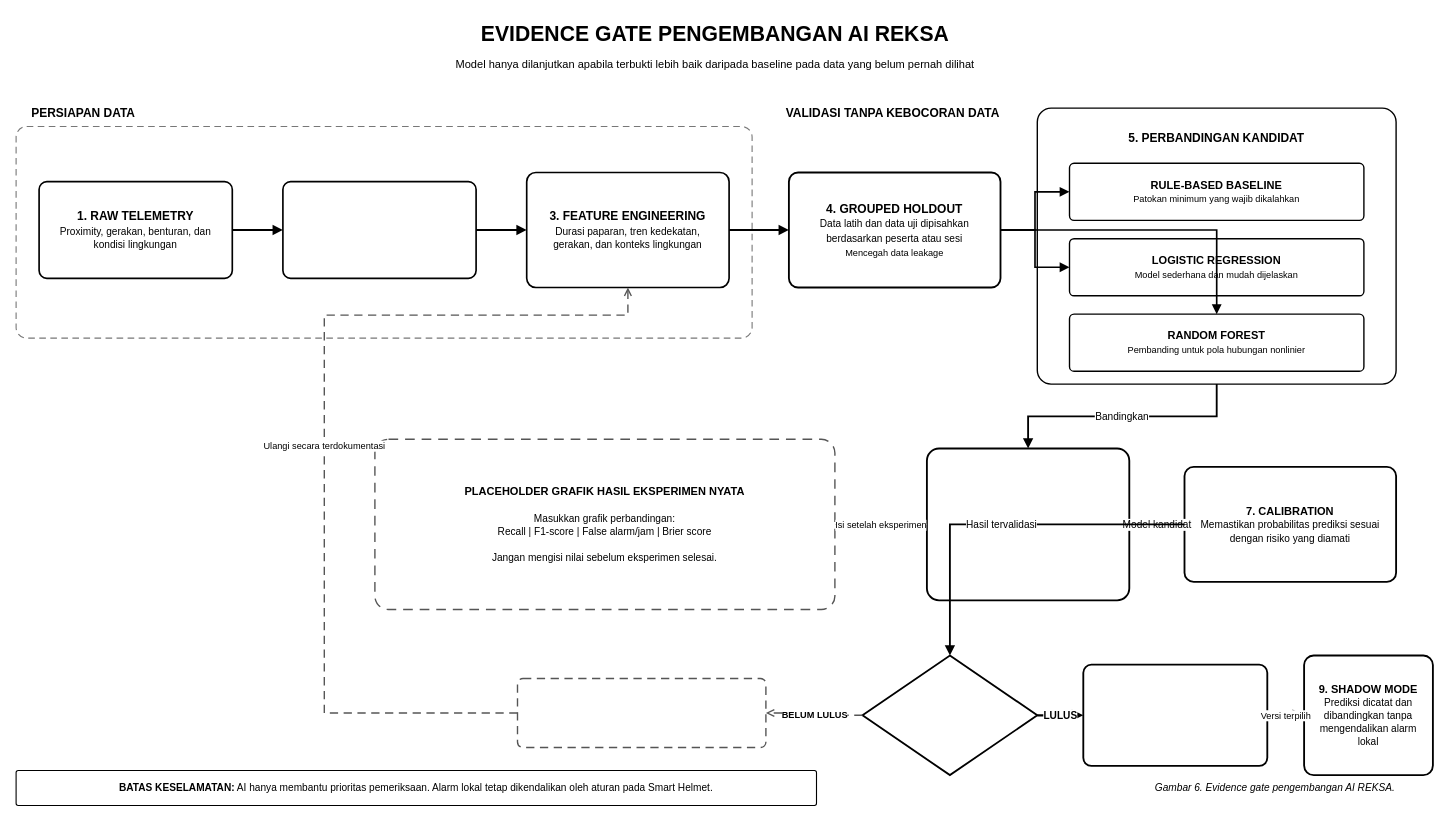
The diagram is 1450 pixels wide and 822 high, and some of its shapes have lost their labels. The shapes that lost their labels are listed below. From the top down, each one's centre as x and y in pixels, then its label:
At (379,229): "2. TEMPORAL WINDOW Menggabungkan rangkaian data dalam interval waktu tertentu".
At (1028,524): "6. EVALUASI MODEL Recall F1-score False alarm per jam Brier score".
At (641,712): "REVISI FEATURE, LABEL, ATAU DATASET".
At (949,715): "EVIDENCE GATE Lebih baik dari baseline dan layak diuji lanjut?".
At (1175,714): "8. MODEL REGISTRY Simpan versi model, metrik, data, dan konfigurasi".
